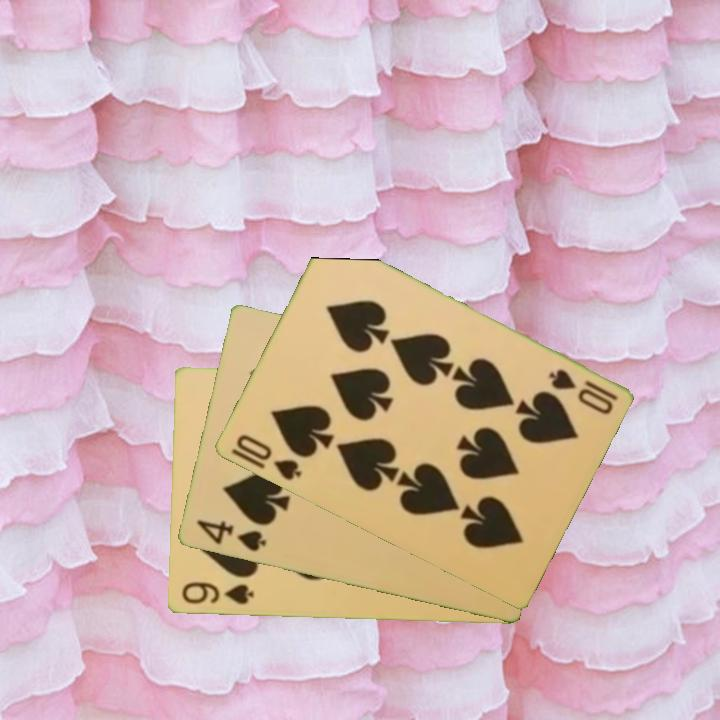10s: (544, 365, 621, 418), (232, 431, 305, 484)
4s: (192, 516, 269, 555)
9s: (178, 579, 256, 608)
